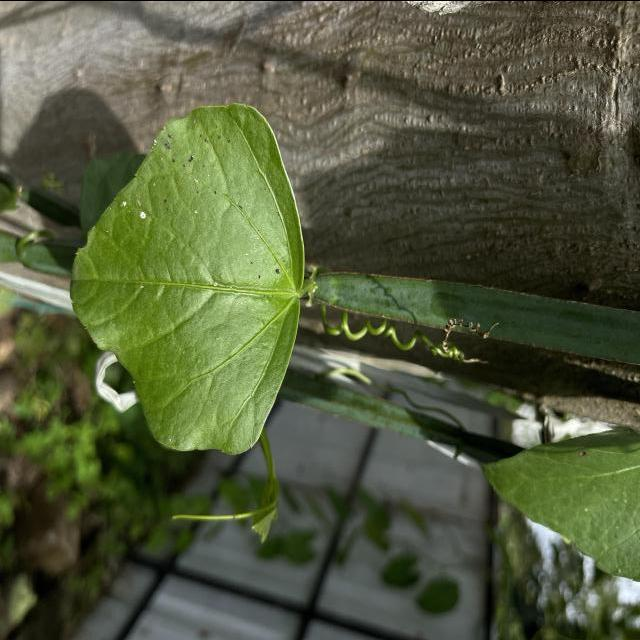Cissus quadrangularis: (66, 100, 310, 458)
